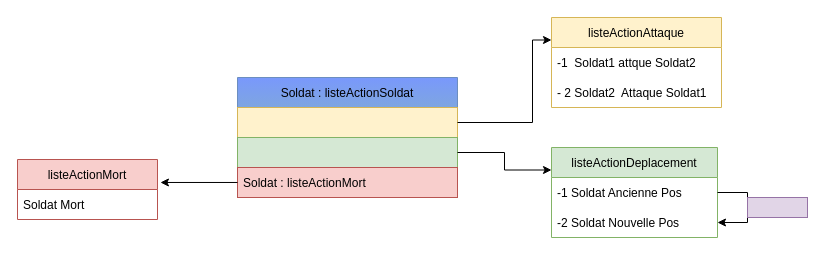
This 825x255 diagram has some shape labels left out. Each missing label, with the centre of its shape:
Clone: the point at 777,207
Soldat : listeActionAttaque: the point at 347,122
Soldat: listeActionDeplacement: the point at 347,152
